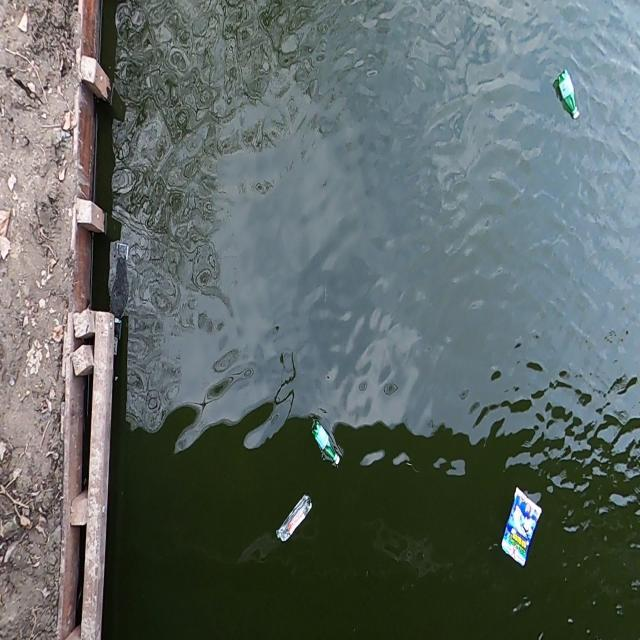Autre plastique: (498, 486, 546, 571)
Bouteille plastique: (307, 414, 344, 477), (553, 62, 583, 121)
